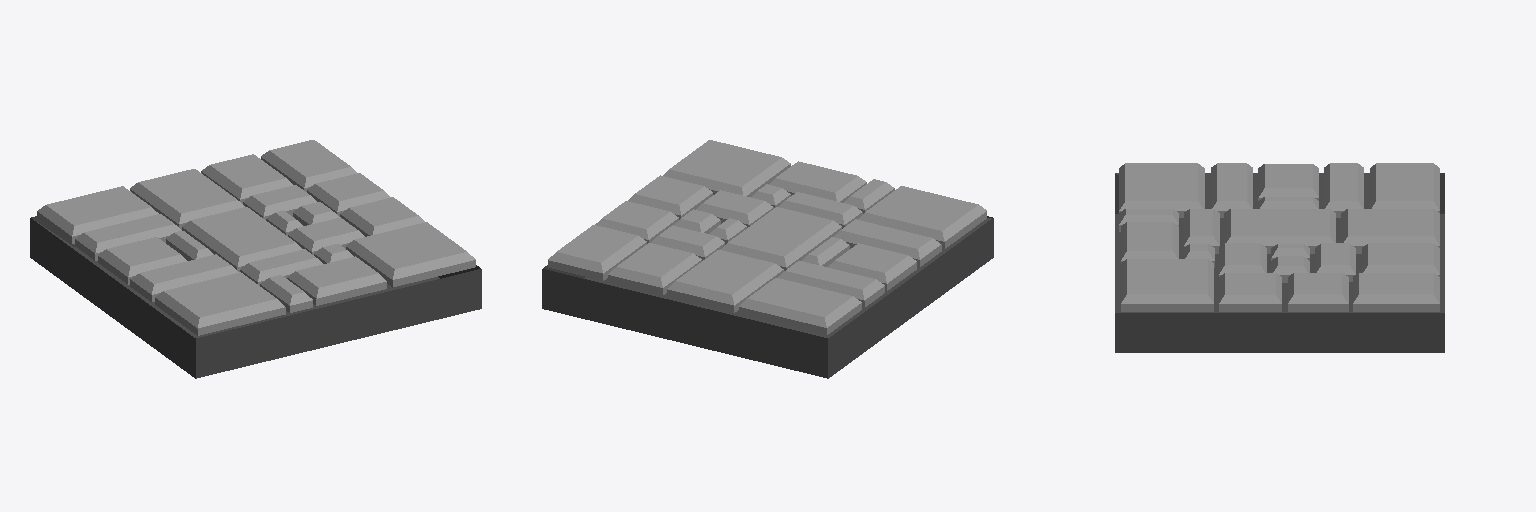
Rendered from TriangleFloor.obj.
3 views of the same model, side by side, from view 1: azimuth 30°, elevation 25°; view 2: azimuth 150°, elevation 25°; view 3: azimuth 270°, elevation 25° (orthographic).
Visible parts, largest first — view 1: ModularFloor_Cube.109; view 2: ModularFloor_Cube.109; view 3: ModularFloor_Cube.109.
Part boxes in pixels (x1,y1,x2,y2): ModularFloor_Cube.109: (30, 140, 481, 378); ModularFloor_Cube.109: (542, 140, 993, 378); ModularFloor_Cube.109: (1115, 163, 1444, 352).
Bounding box in the file's own units: 2 × 0.3667 × 2.